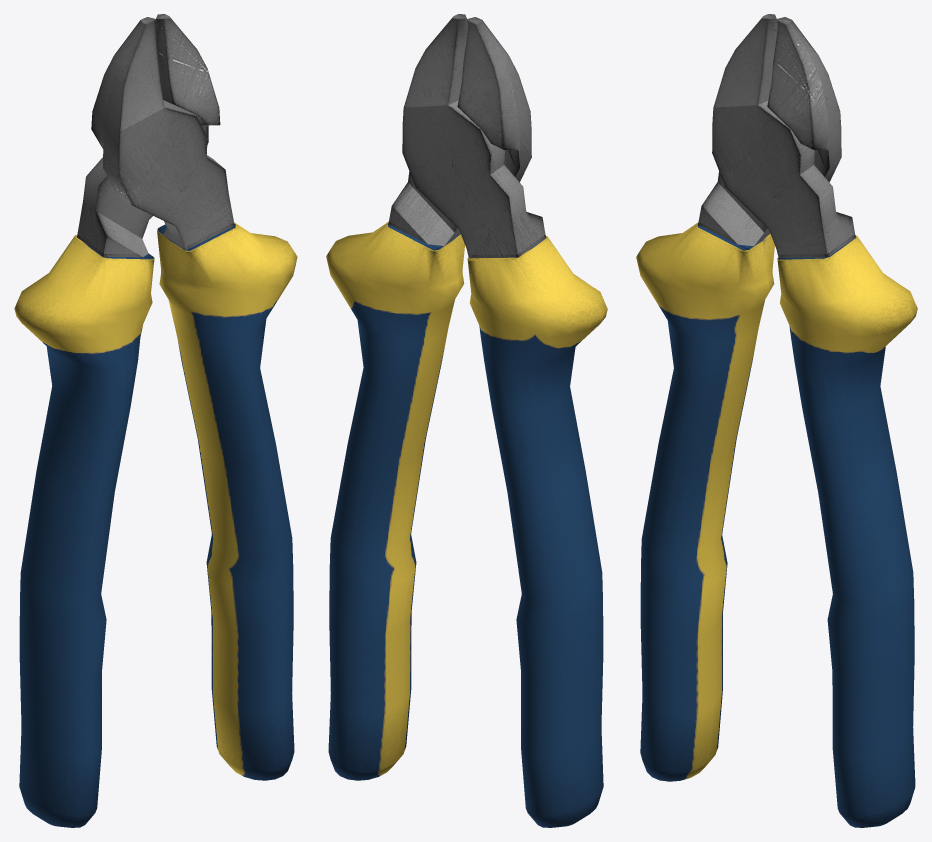
The model's file is Pliers01_2.FBX.
The picture shows the model from 3 angles, left to right: view 1: azimuth 30°, elevation 25°; view 2: azimuth 150°, elevation 25°; view 3: azimuth 330°, elevation 25°; orthographic projection.
Parts seen in each view (by area): view 1: Pliers01_2_LOD0; view 2: Pliers01_2_LOD0; view 3: Pliers01_2_LOD0.
Part boxes in pixels (x1=…): Pliers01_2_LOD0: x1=14, y1=14, x2=297, y2=827; Pliers01_2_LOD0: x1=326, y1=14, x2=607, y2=827; Pliers01_2_LOD0: x1=636, y1=14, x2=917, y2=827.
Size of what is drawn, in the model's own units: 5.13 by 14.03 by 1.69.
